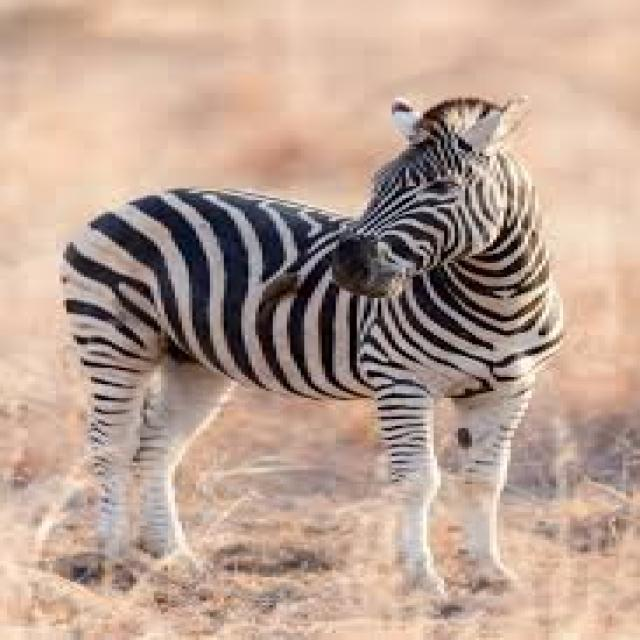Zebra: (50, 99, 559, 598)
